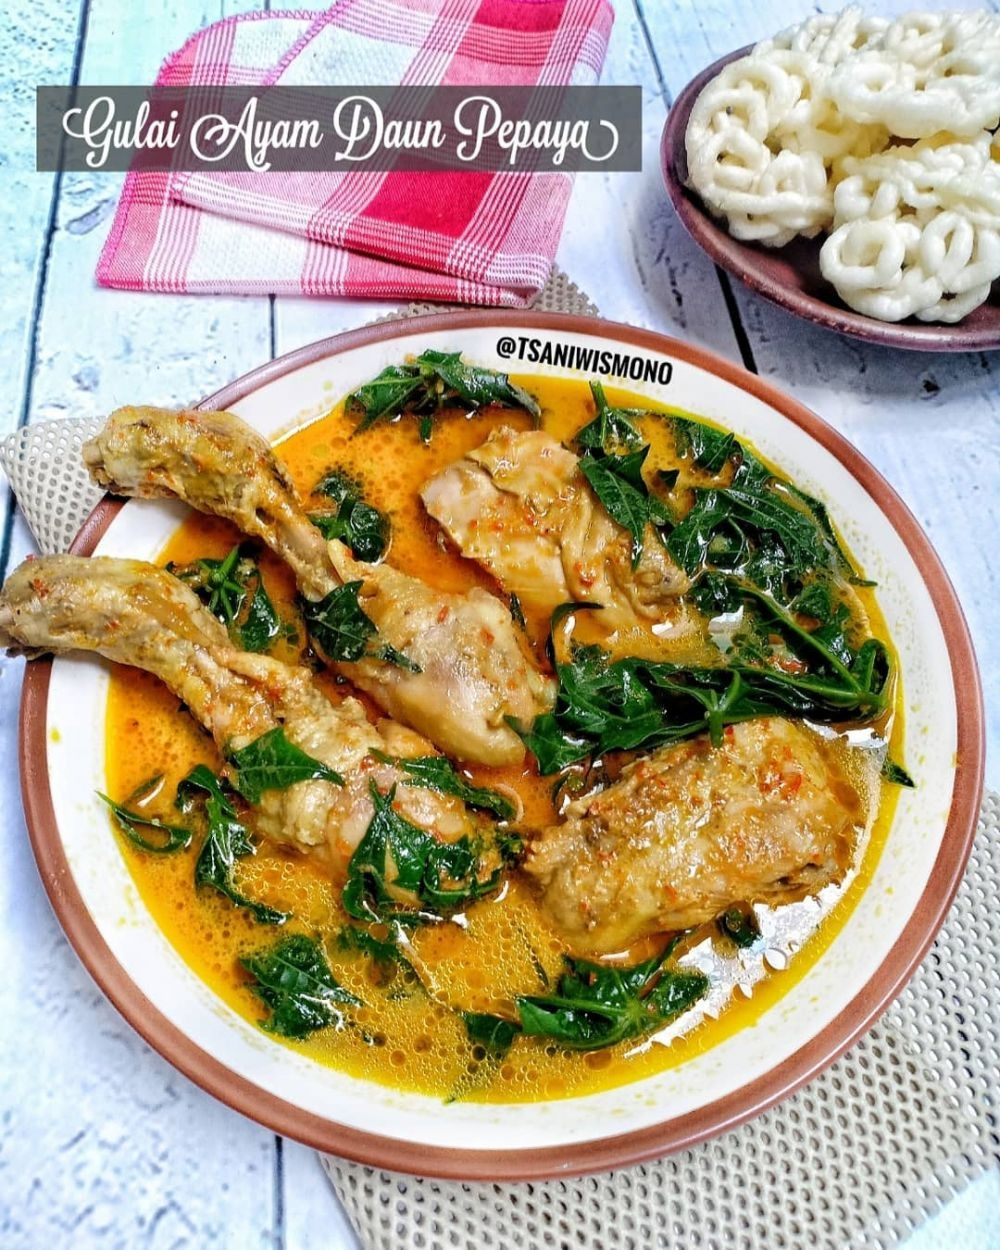gulai_ayam: (96, 362, 949, 1083)
